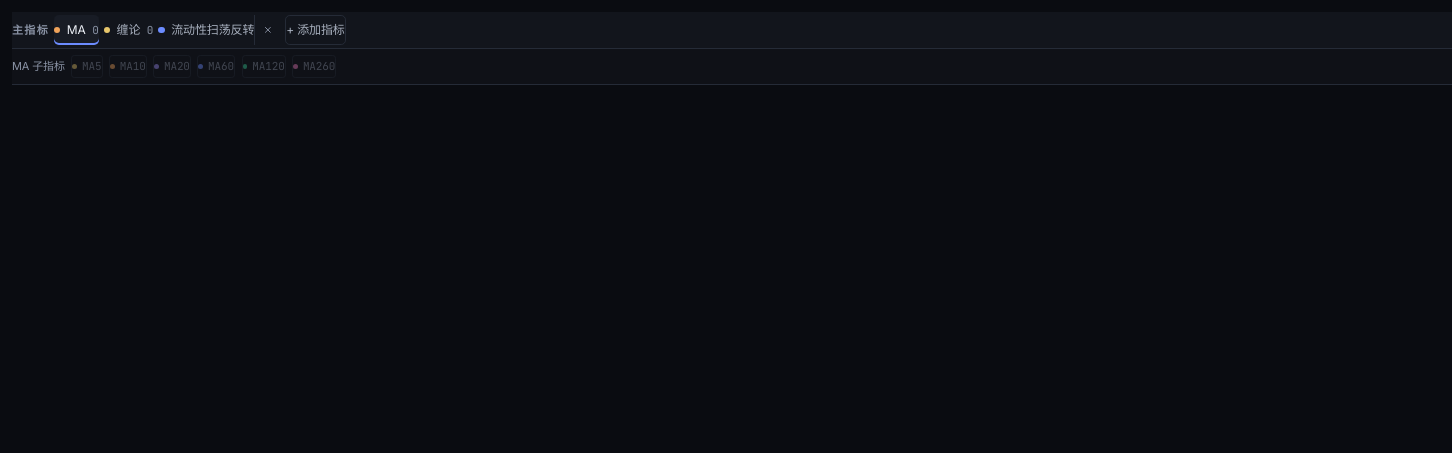
流动性聚集区的参数面板 › 流动性扫荡反转：显示 SSL/BSL 图例，点开是含义解释
Click the button "流动性扫荡反转" at (206, 30), box [158,15,254,45]
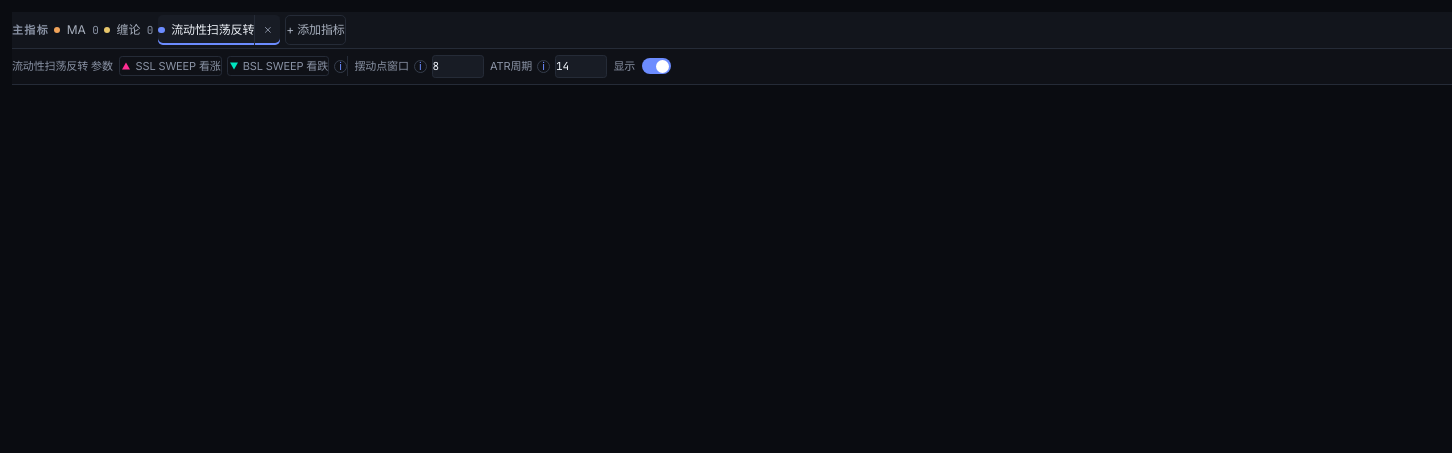
Result: the picture named "SSL SWEEP：卖方流动性被扫，看涨" is shown at [120,60,132,72]
Result: the picture named "BSL SWEEP：买方流动性被扫，看跌" is shown at [228,60,240,72]
Click the button named "SSL / BSL 含义说明" at (340, 66), box [334,60,347,73]
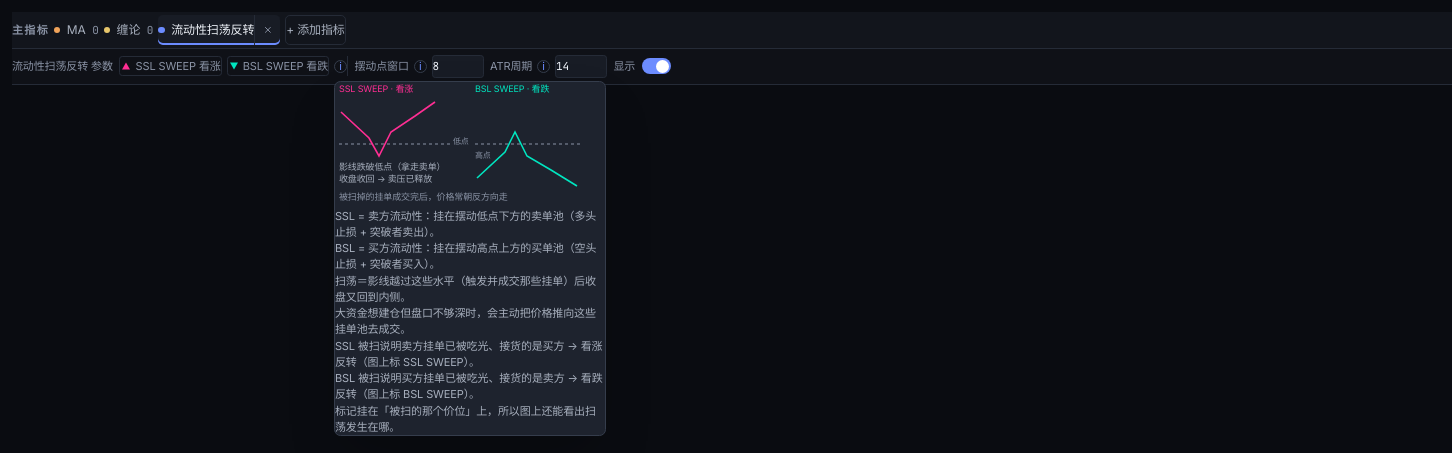
Result: the tooltip shows "卖方流动性" at [335,209,602,434]
Result: the tooltip shows "买方流动性" at [335,209,602,434]
Result: the tooltip shows "看涨反转" at [335,209,602,434]
